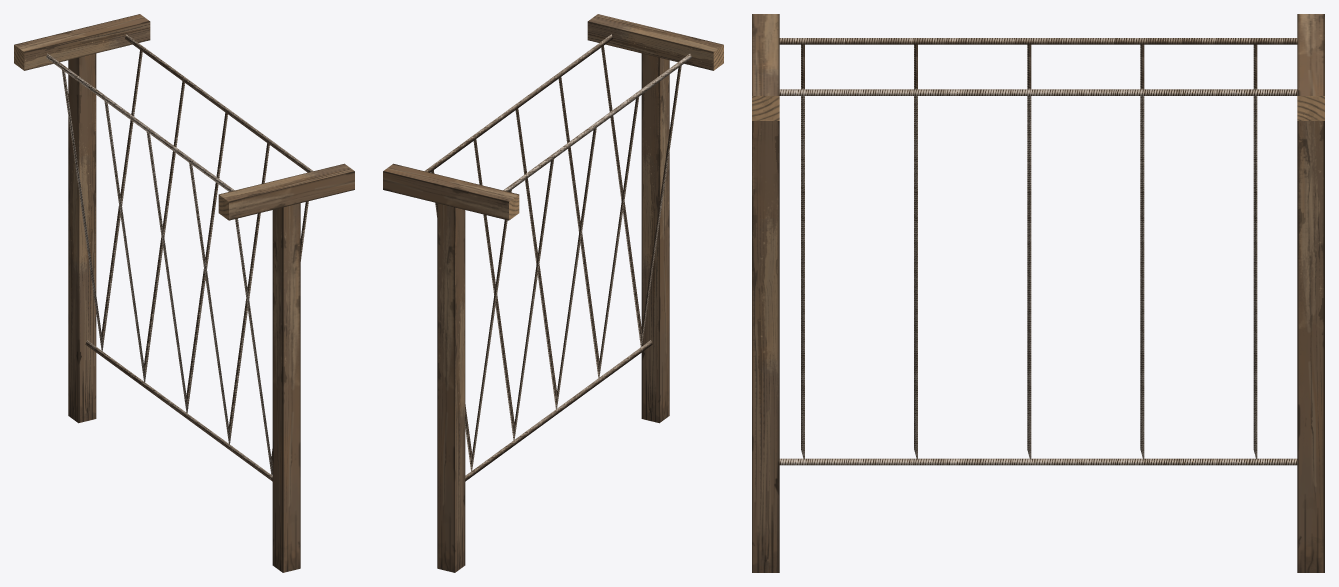
Rendered from trellis08.fbx.
The picture shows the model from 3 angles, left to right: view 1: azimuth 30°, elevation 25°; view 2: azimuth 150°, elevation 25°; view 3: azimuth 270°, elevation 25°; orthographic projection. The views are drawn at different scales.
Parts seen in each view (by area): view 1: trellis08; view 2: trellis08; view 3: trellis08.
Boxes of the visible parts, x1,y1,x2,y2 form: trellis08: (14, 14, 354, 572); trellis08: (383, 14, 723, 572); trellis08: (752, 14, 1324, 572).
Bounding box in the file's own units: 74.92 × 218 × 221.
